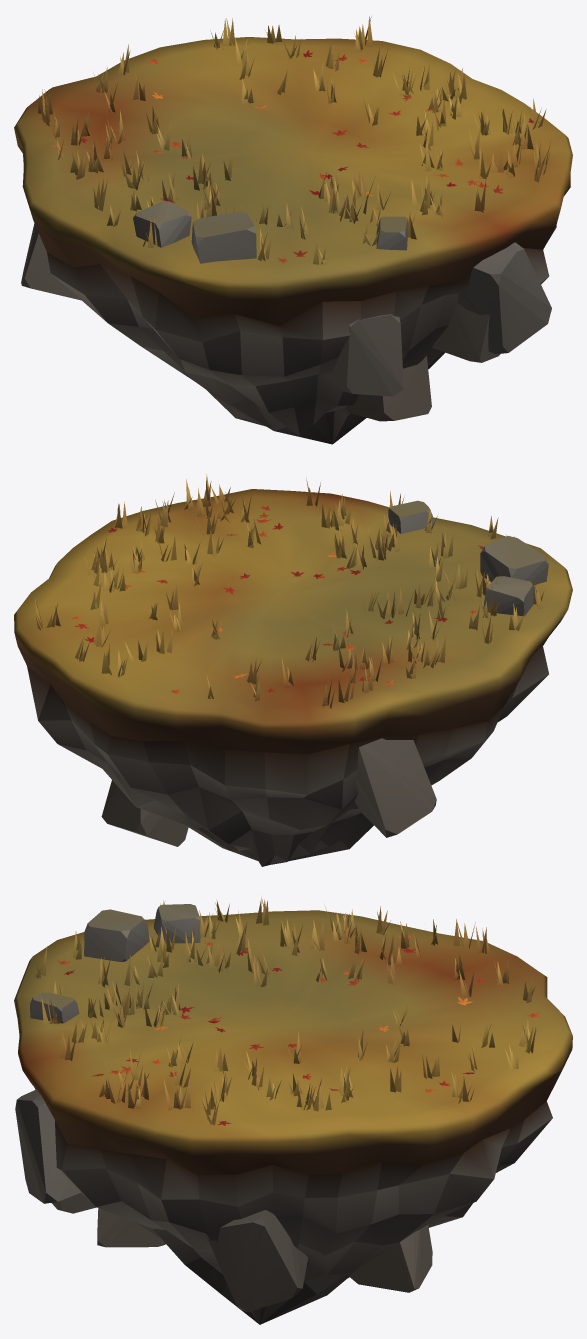
Rendered from island_chunk.glb.
3 views of the same model, one above another, from view 1: azimuth 30°, elevation 25°; view 2: azimuth 150°, elevation 25°; view 3: azimuth 270°, elevation 25° (orthographic). The views are drawn at different scales.
Visible parts, largest first — view 1: IslandChunk; view 2: IslandChunk; view 3: IslandChunk.
Part boxes in pixels (box(x1,y1,x2,y2)): IslandChunk: box(14, 16, 572, 444); IslandChunk: box(14, 474, 572, 866); IslandChunk: box(14, 897, 572, 1324).
Bounding box in the file's own units: 8.37 × 5.43 × 8.59.
